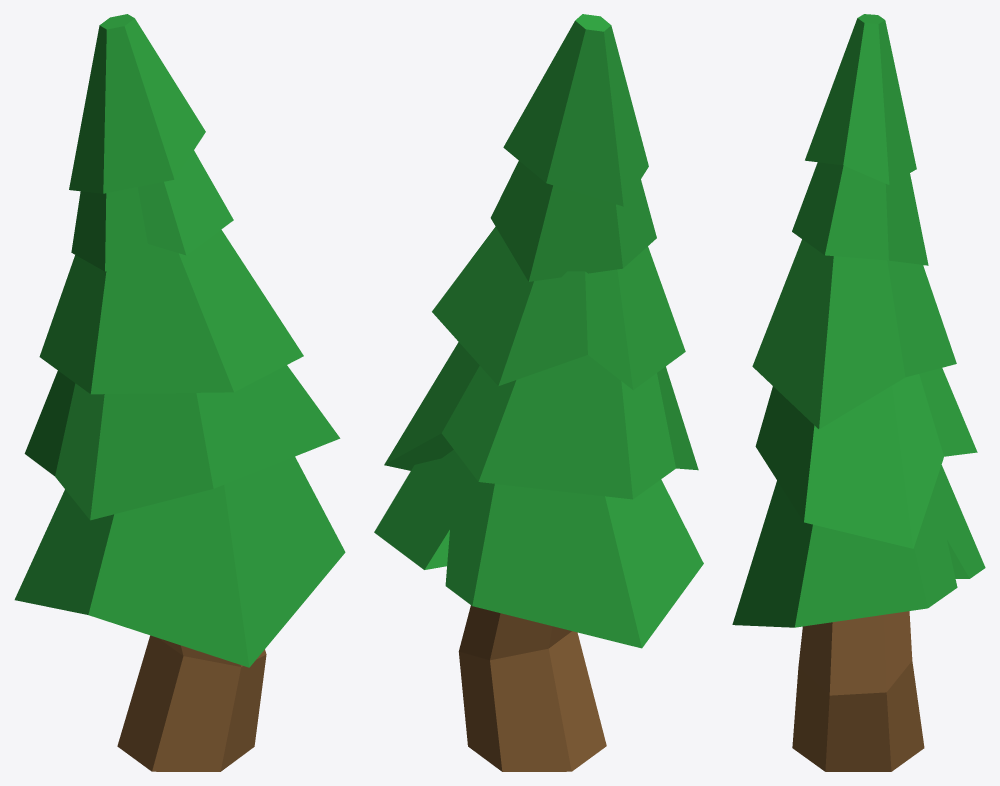
The model's file is 1Trees.fbx.
3 renders of one model, left to right at view 1: azimuth 30°, elevation 25°; view 2: azimuth 150°, elevation 25°; view 3: azimuth 270°, elevation 25°, orthographic. The views are drawn at different scales.
Parts seen in each view (by area): view 1: Cylinder.001, Cylinder.003, Cylinder.002, Cylinder.006, Cylinder, Cylinder.005; view 2: Cylinder.001, Cylinder.002, Cylinder.003, Cylinder, Cylinder.006, Cylinder.005; view 3: Cylinder.002, Cylinder.003, Cylinder.001, Cylinder, Cylinder.006, Cylinder.005.
Part boxes in pixels (<box>): Cylinder.001: <box>14,456,345,667</box>; Cylinder.003: <box>39,229,303,394</box>; Cylinder.002: <box>24,365,340,520</box>; Cylinder.006: <box>69,14,205,193</box>; Cylinder: <box>117,635,266,771</box>; Cylinder.005: <box>71,150,233,271</box>; Cylinder.001: <box>374,449,703,648</box>; Cylinder.002: <box>384,342,698,499</box>; Cylinder.003: <box>432,226,685,390</box>; Cylinder: <box>458,605,606,771</box>; Cylinder.006: <box>503,14,648,206</box>; Cylinder.005: <box>490,161,656,281</box>; Cylinder.002: <box>755,368,977,548</box>; Cylinder.003: <box>752,239,956,429</box>; Cylinder.001: <box>732,465,985,627</box>; Cylinder: <box>792,611,924,771</box>; Cylinder.006: <box>805,14,916,184</box>; Cylinder.005: <box>792,162,928,265</box>.
Bounding box in the file's own units: 477 × 1276 × 417.
